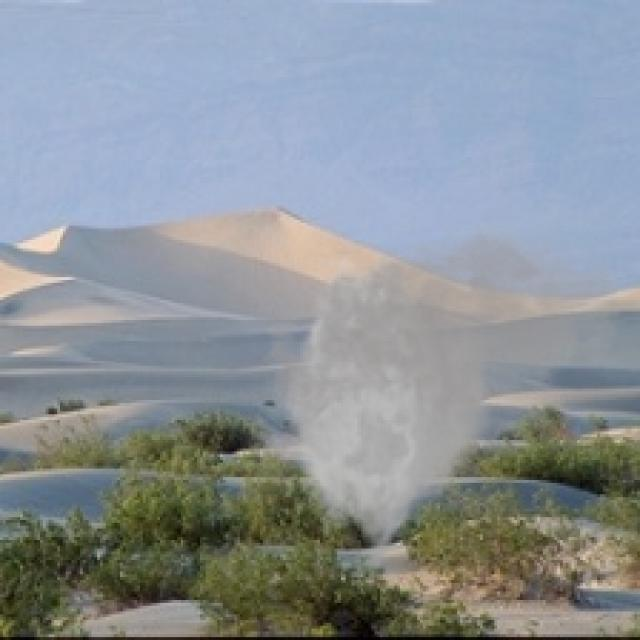Smoke: (240, 212, 629, 594)
